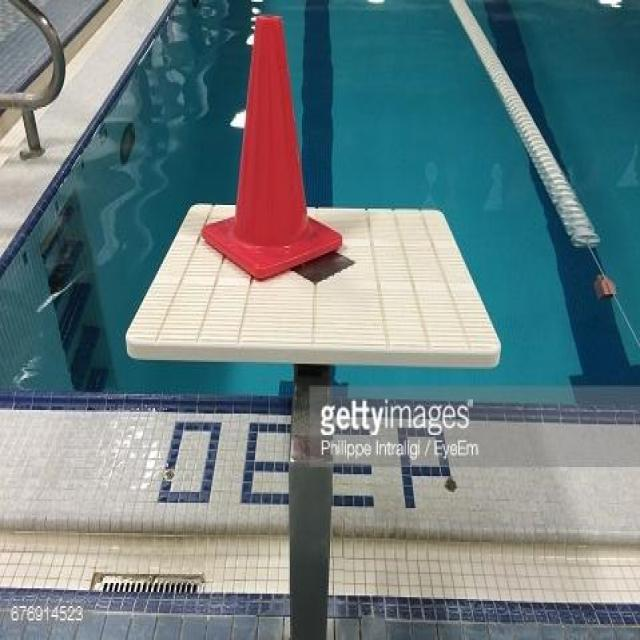Cone: (203, 14, 346, 282)
